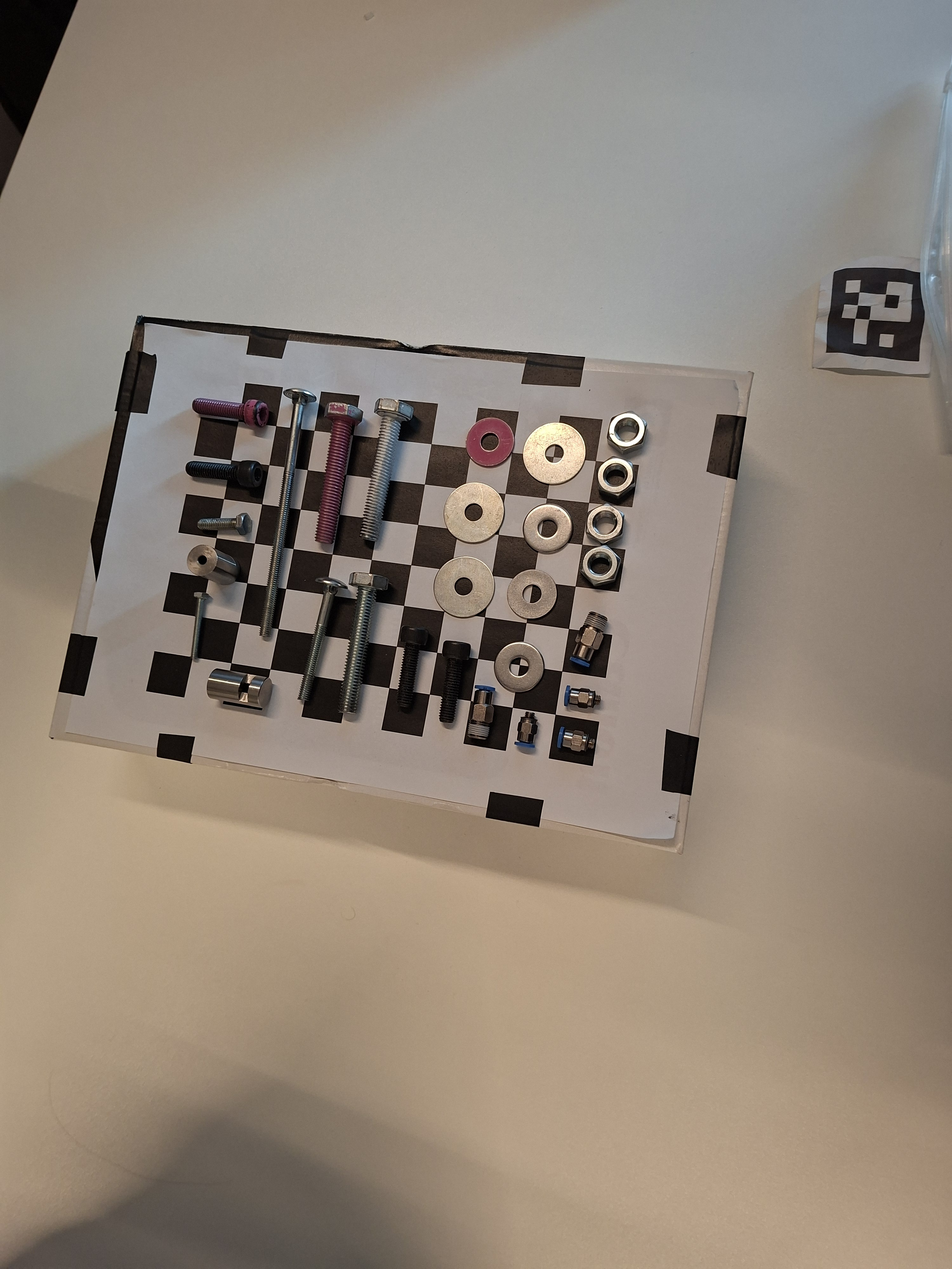allen_screw: (386, 620, 434, 714), (186, 387, 275, 433), (180, 453, 268, 494), (432, 638, 473, 726)
barrel_nut: (198, 663, 281, 717), (184, 537, 246, 592)
carriage_bolt: (245, 384, 320, 643), (283, 570, 352, 708)
hex_bolt: (324, 564, 395, 720), (347, 393, 418, 544), (300, 399, 365, 549), (182, 587, 213, 666), (193, 508, 256, 540)
hex_nut: (573, 536, 639, 601), (576, 494, 637, 556), (587, 449, 649, 509), (597, 402, 661, 460)
pneumatic_fitting: (565, 606, 616, 669), (463, 683, 500, 744), (552, 723, 603, 763), (510, 710, 546, 756), (560, 681, 606, 716)
washer: (435, 475, 516, 552), (426, 548, 501, 624), (518, 416, 595, 488), (498, 561, 565, 630), (519, 496, 584, 558), (460, 412, 523, 472), (489, 640, 551, 698)
